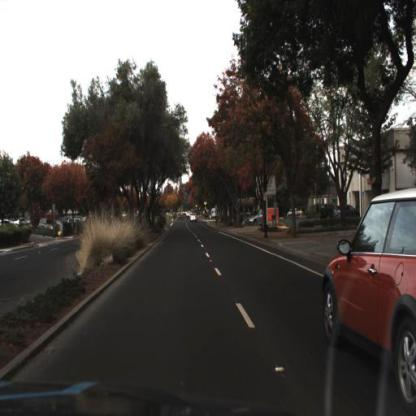car: (321, 196, 416, 416), (335, 204, 358, 219), (250, 208, 266, 227), (319, 204, 335, 220), (190, 213, 198, 224)
